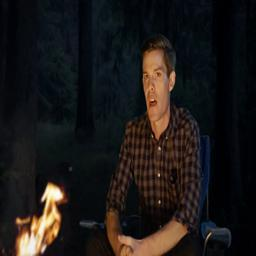fire: (15, 182, 64, 256)
